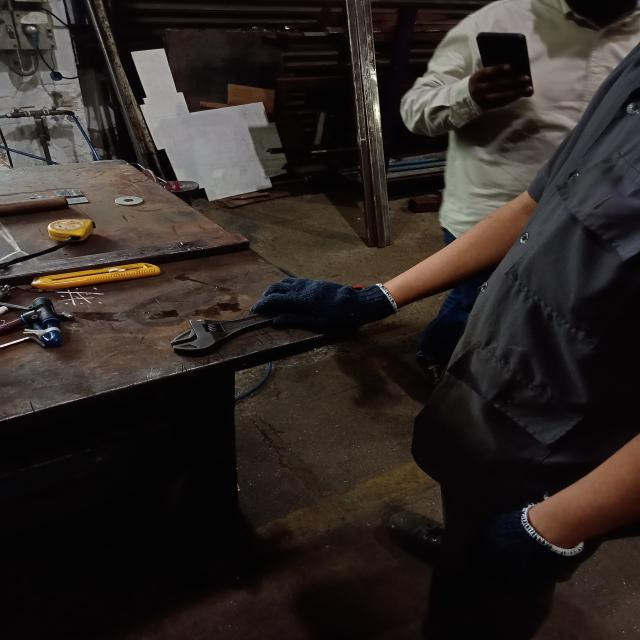Gloves-Detection: (256, 277, 428, 342)
